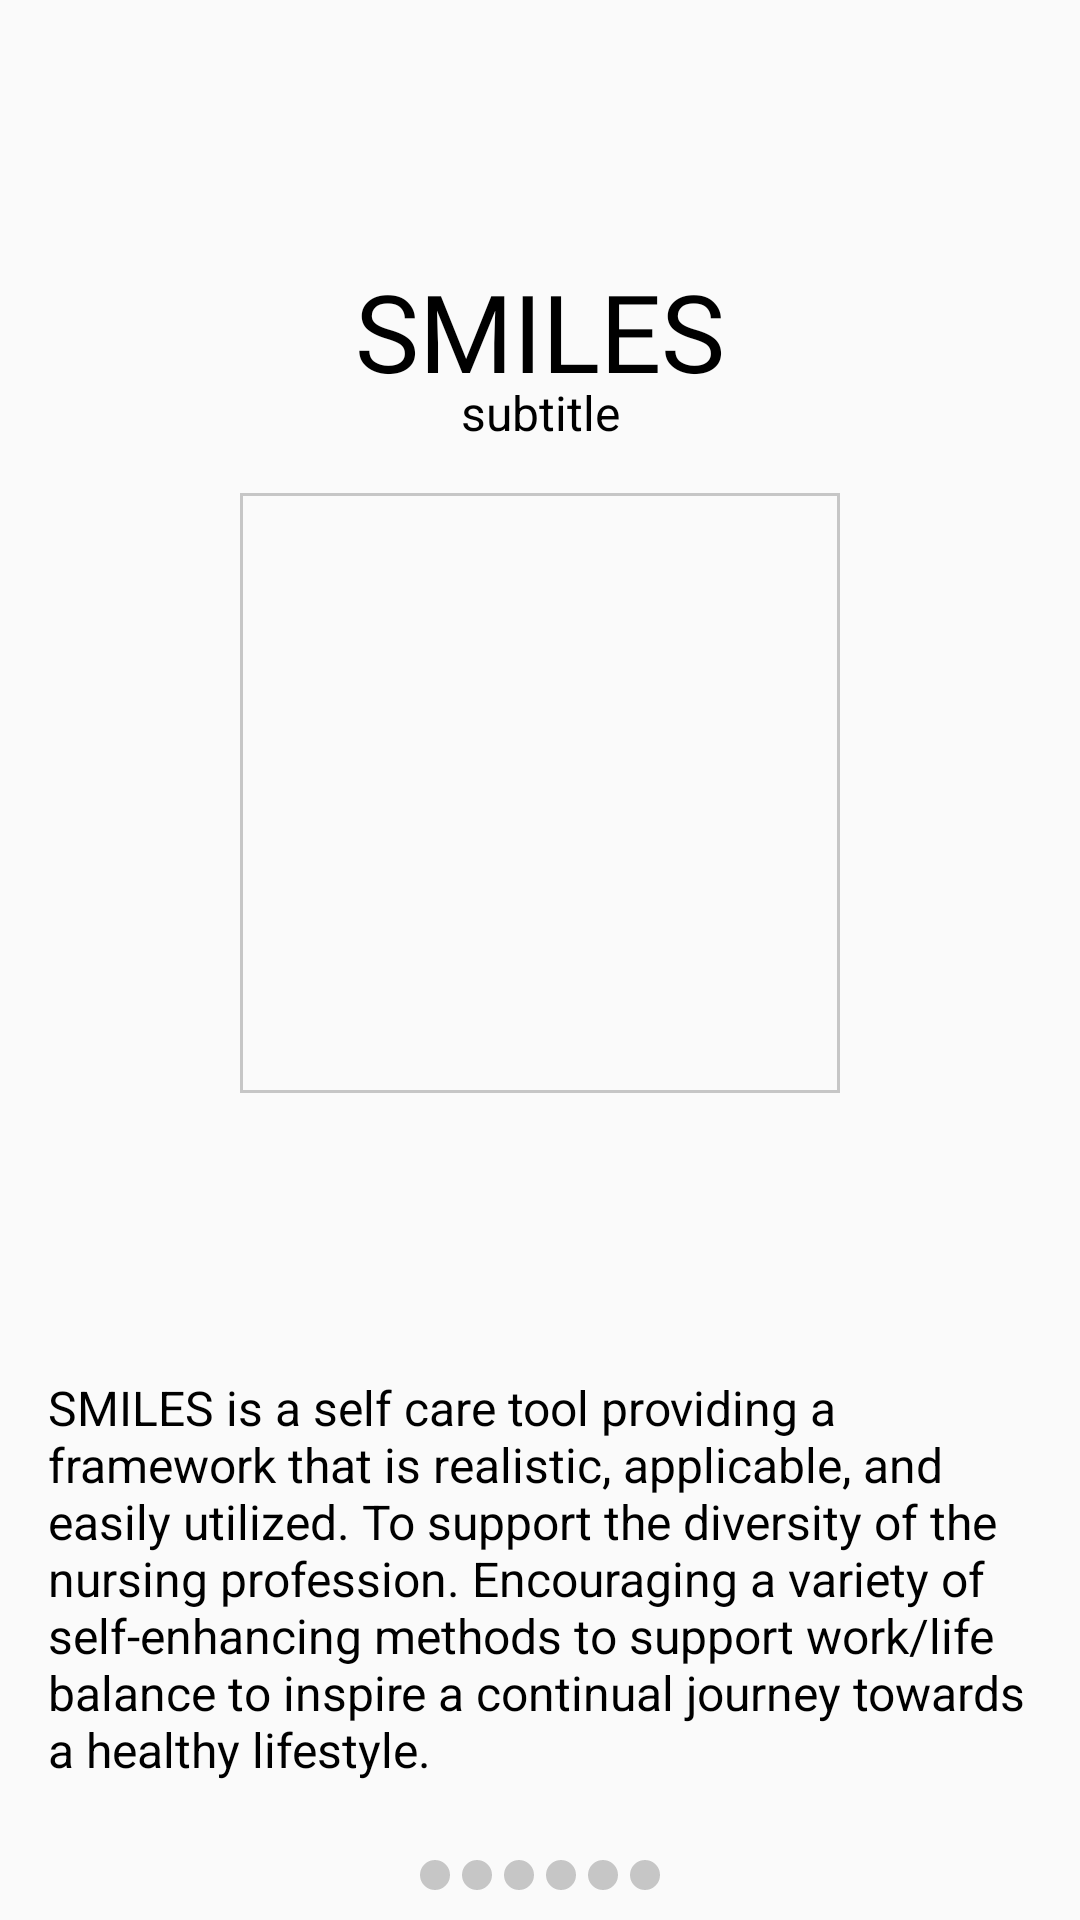

Locate icon controls on the screen. Image size 1080w x 1920h, boxes as (left=x1, top=y1, right=x2, bottom=y2).
dot other page: (left=420, top=1860, right=450, bottom=1890), (left=462, top=1860, right=492, bottom=1890), (left=504, top=1860, right=534, bottom=1890), (left=546, top=1860, right=576, bottom=1890), (left=588, top=1860, right=618, bottom=1890), (left=630, top=1860, right=660, bottom=1890)
